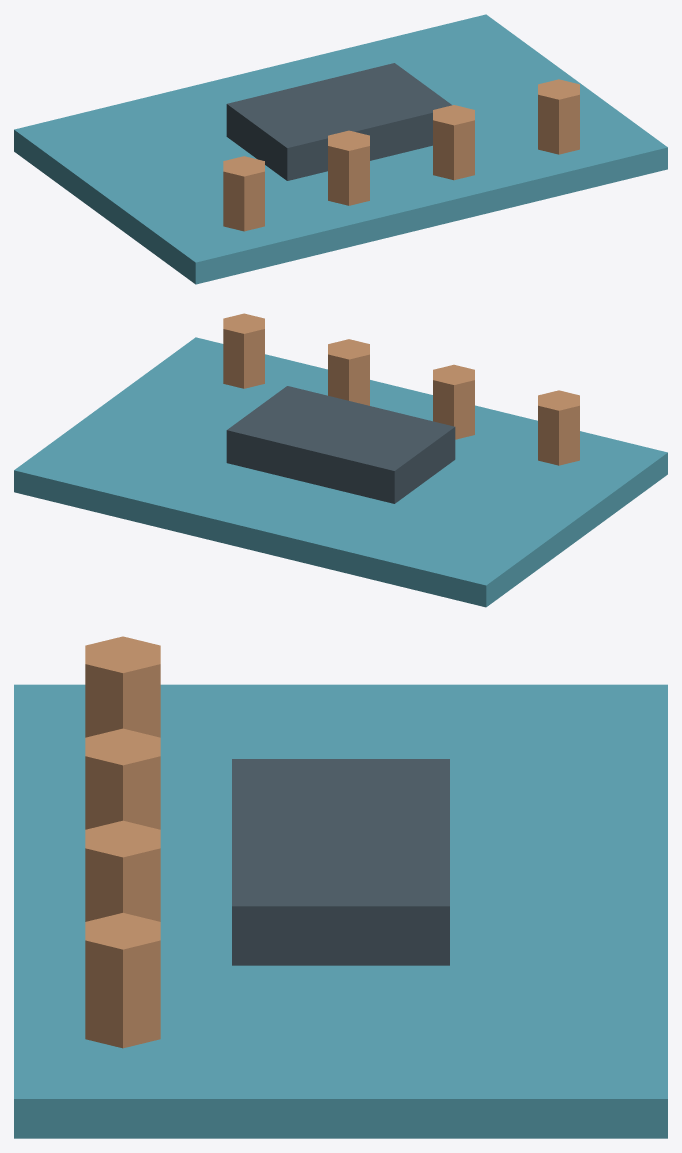
The model's file is circuit-board-assembly.glb.
3 renders of one model, top to bottom at view 1: azimuth 30°, elevation 25°; view 2: azimuth 150°, elevation 25°; view 3: azimuth 270°, elevation 25°, orthographic. The views are drawn at different scales.
Parts seen in each view (by area): view 1: blue, dark, copper; view 2: blue, dark, copper; view 3: blue, dark, copper.
Boxes of the visible parts, x1,y1,x2,y2 form: blue: (14, 14, 667, 284); dark: (226, 63, 451, 180); copper: (223, 79, 579, 231); blue: (14, 337, 667, 607); dark: (226, 386, 455, 503); copper: (223, 313, 579, 465); blue: (14, 684, 667, 1138); dark: (232, 759, 449, 965); copper: (85, 636, 160, 1048).
Size of the model in its own units: 0.45 by 0.07 by 0.3.
